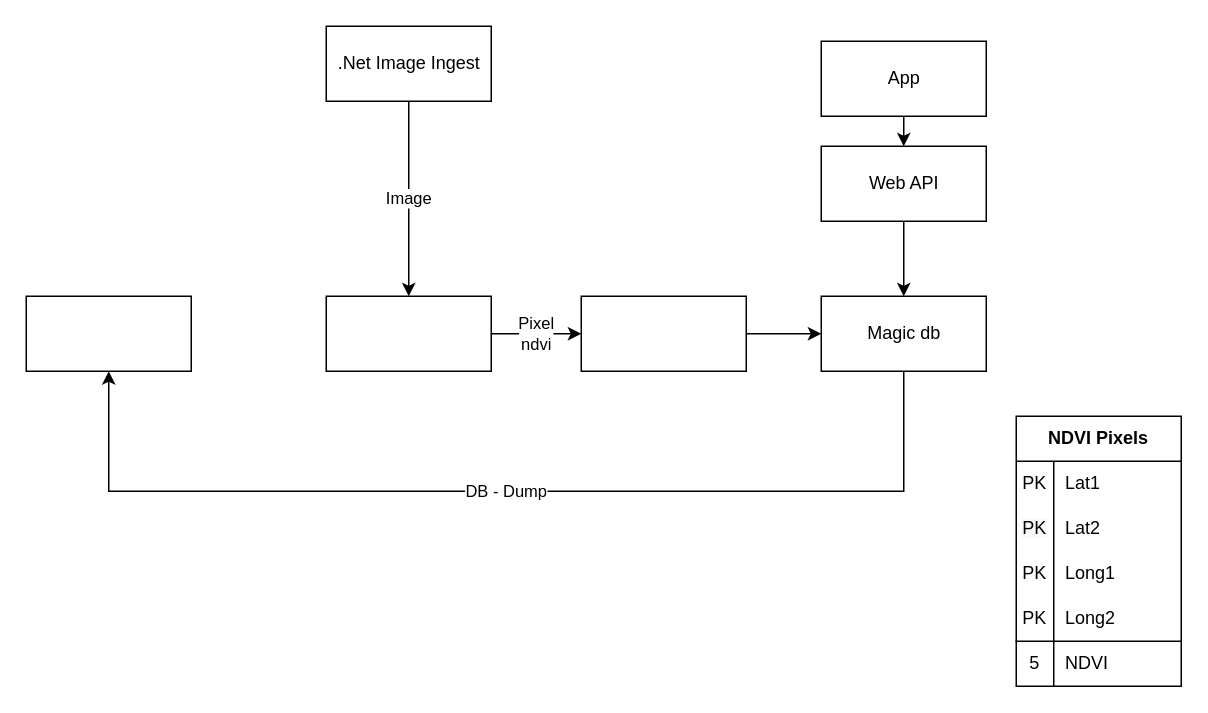
Some shapes in this 1208 by 713 pixel diagram are drawn without their labels. The shapes that lost their labels are listed below. From the top down, each one's centre as x and y in pixels, then its label:
the point at 108,333: HDFS
the point at 408,333: Spark
the point at 663,333: Kafka
